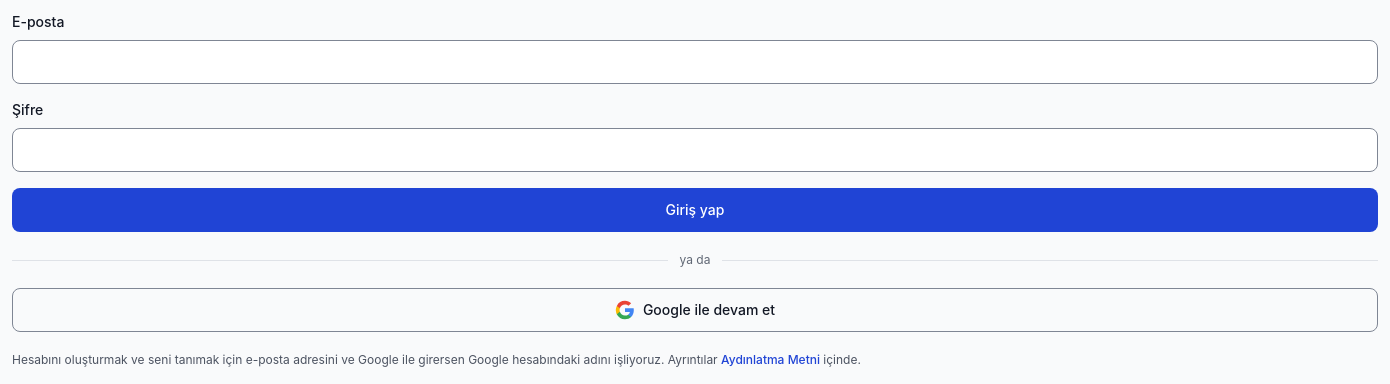
CredentialsForm › gönderilince buton anında devre dışı + spinner + "Giriş yapılıyor…"; Google da kilitlenir
Type "ayse@example.test" into the field labelled "E-posta" at (695, 62), box [12,40,1378,84]
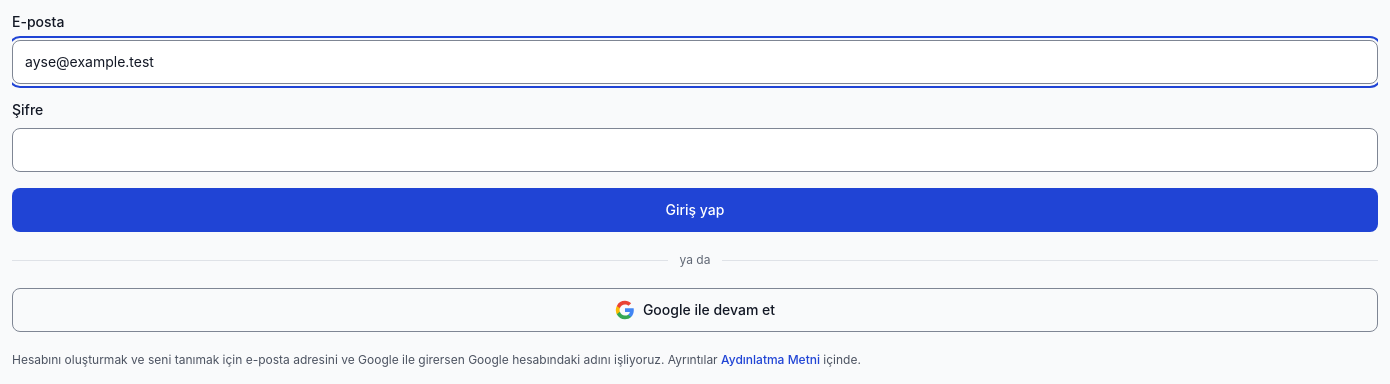
Type "dogru-sifre" into the password field labelled "Şifre" at (695, 150), box [12,128,1378,172]
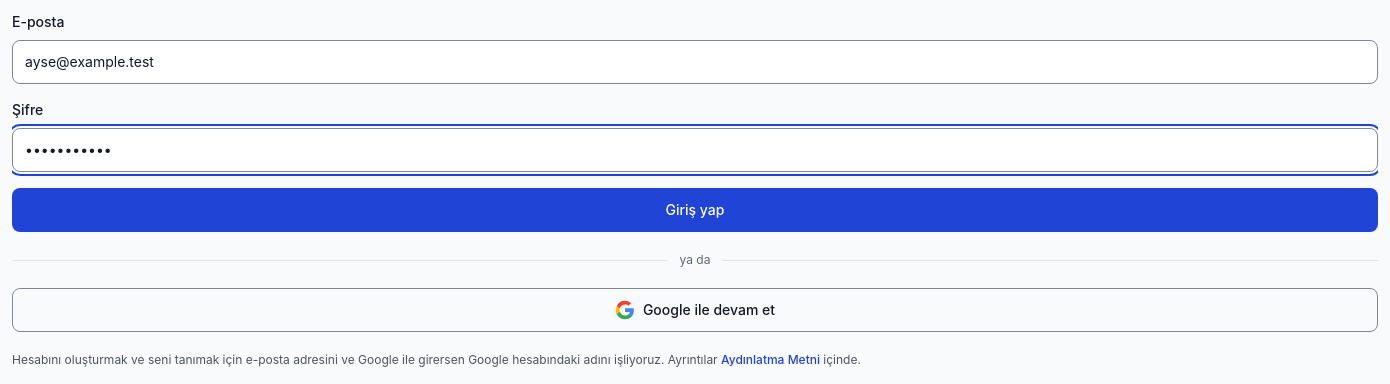
Click the button with test id "auth-submit" at (695, 210), box [12,188,1378,232]
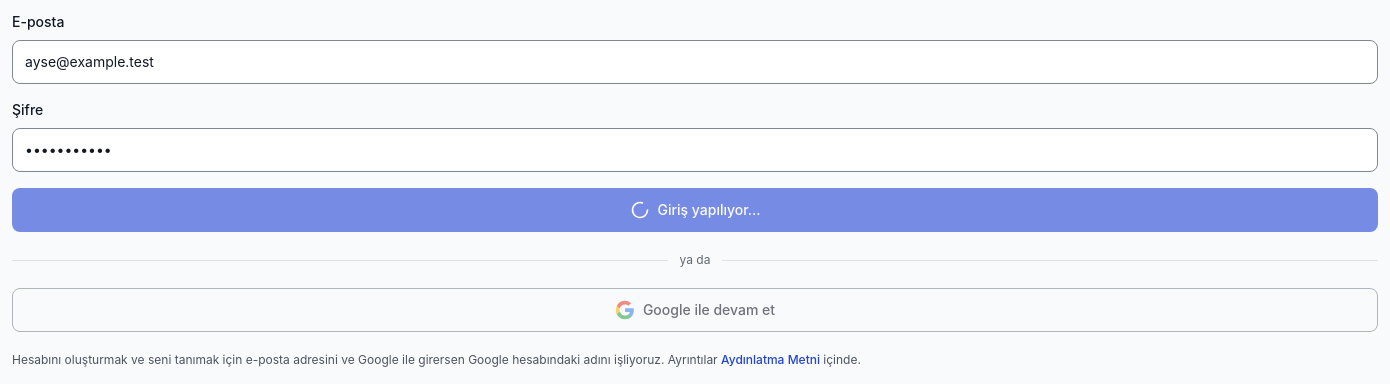
Result: the button with test id "auth-submit" is disabled at [12,188,1378,232]
Result: the button with test id "auth-submit" reads "Giriş yapılıyor…" at [12,188,1378,232]
Result: the icon with test id "button-spinner" is shown at [630,200,650,220]
